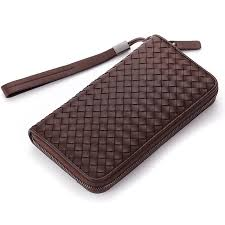monedero: (29, 34, 219, 194)
